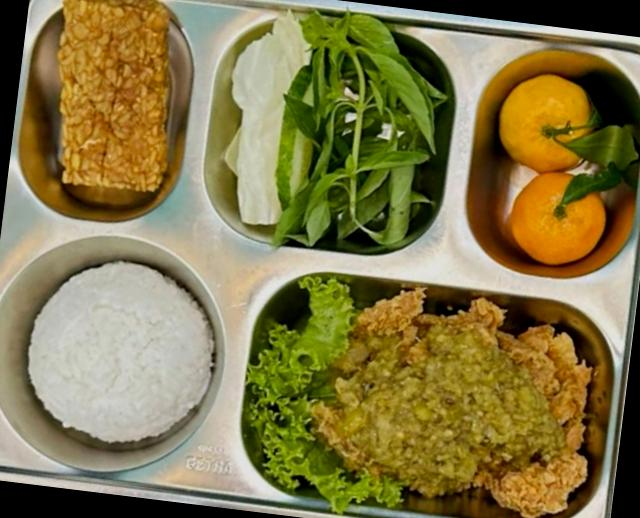ayam: (313, 288, 591, 517)
buah: (499, 75, 638, 265)
nasi: (29, 262, 214, 443)
sayur: (225, 12, 442, 250)
tempe: (58, 0, 169, 192)
